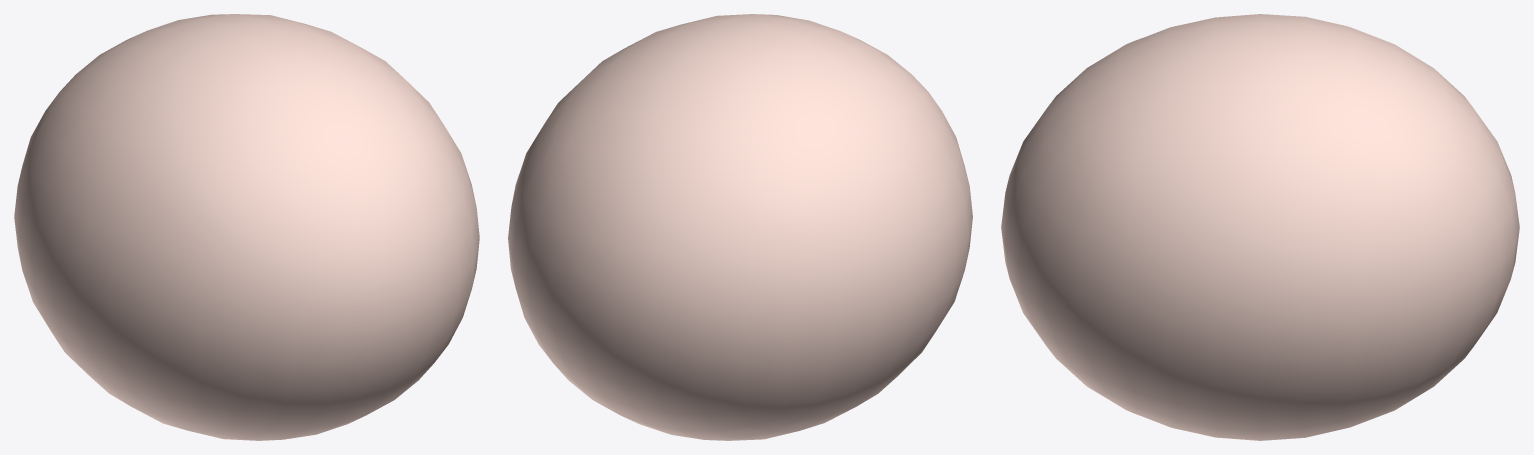
The model's file is haerinhead.fbx.
3 renders of one model, left to right at view 1: azimuth 30°, elevation 25°; view 2: azimuth 150°, elevation 25°; view 3: azimuth 270°, elevation 25°, orthographic. The views are drawn at different scales.
Parts seen in each view (by area): view 1: haerinhead; view 2: haerinhead; view 3: haerinhead.
Boxes of the visible parts, left/top/right/bottom form: haerinhead: left=14, top=14, right=479, bottom=440; haerinhead: left=508, top=14, right=972, bottom=440; haerinhead: left=1001, top=14, right=1519, bottom=440.
Bounding box in the file's own units: 409 × 374 × 459.
